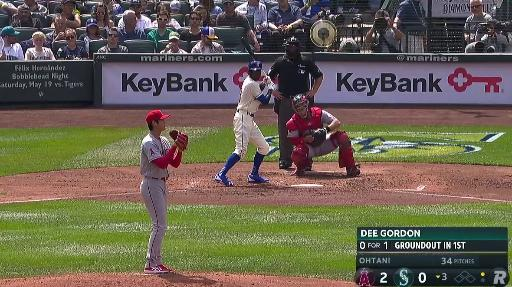pitcher: (140, 109, 189, 276)
